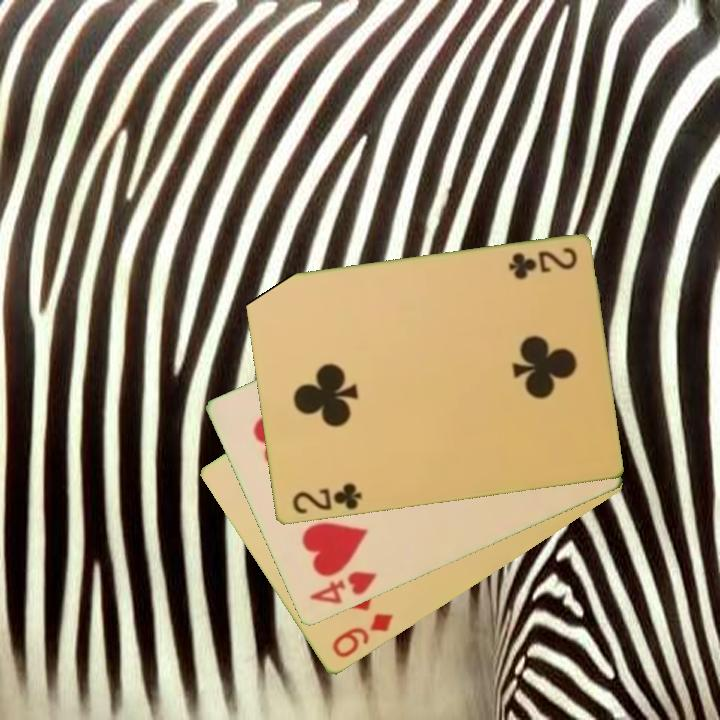2c: (288, 480, 364, 518), (504, 244, 580, 281)
4h: (305, 568, 380, 608)
9d: (328, 610, 396, 662)
